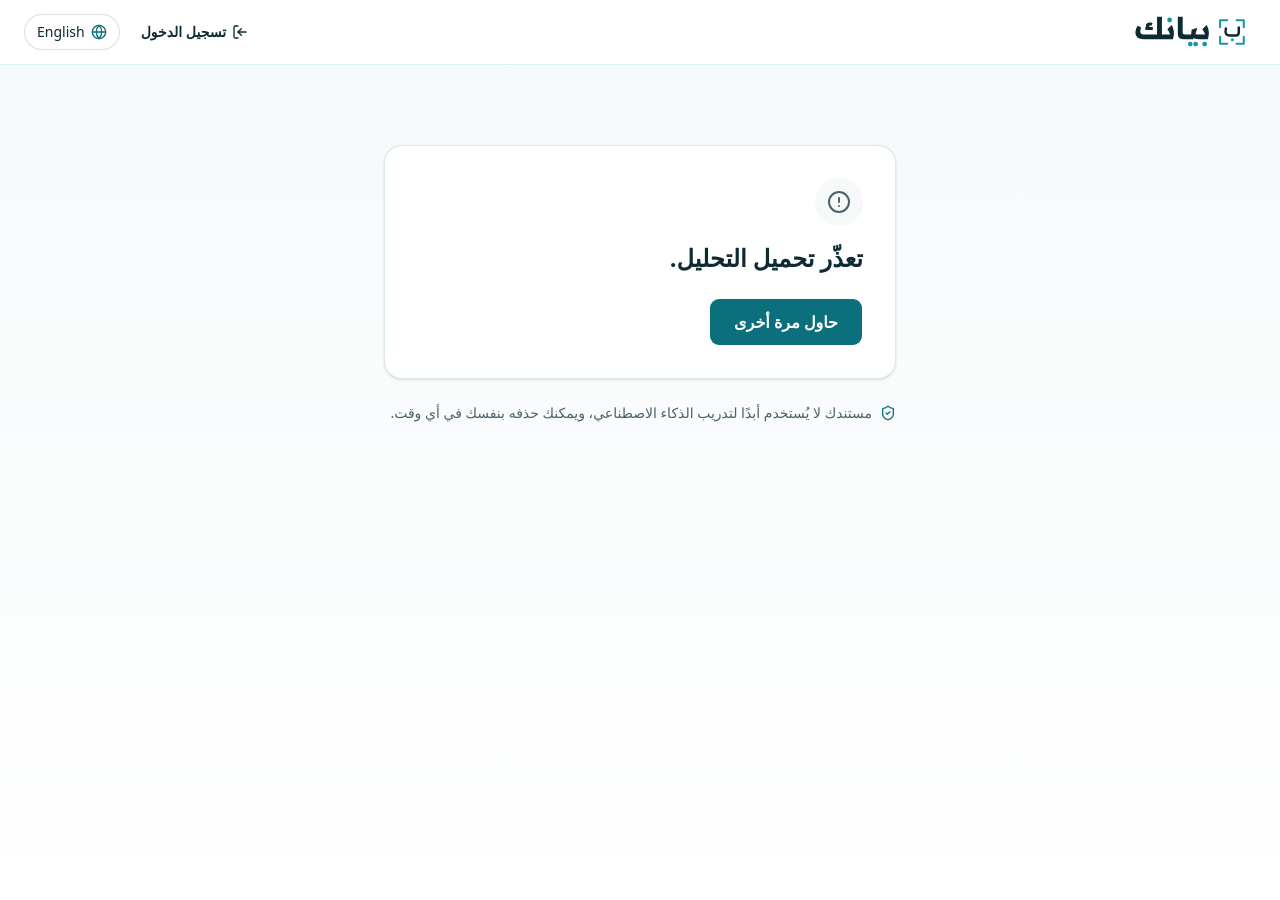
Test case: can load the result again after a server error
Click the button "حاول مرة أخرى" at point(786, 322), box [709,298,863,346]
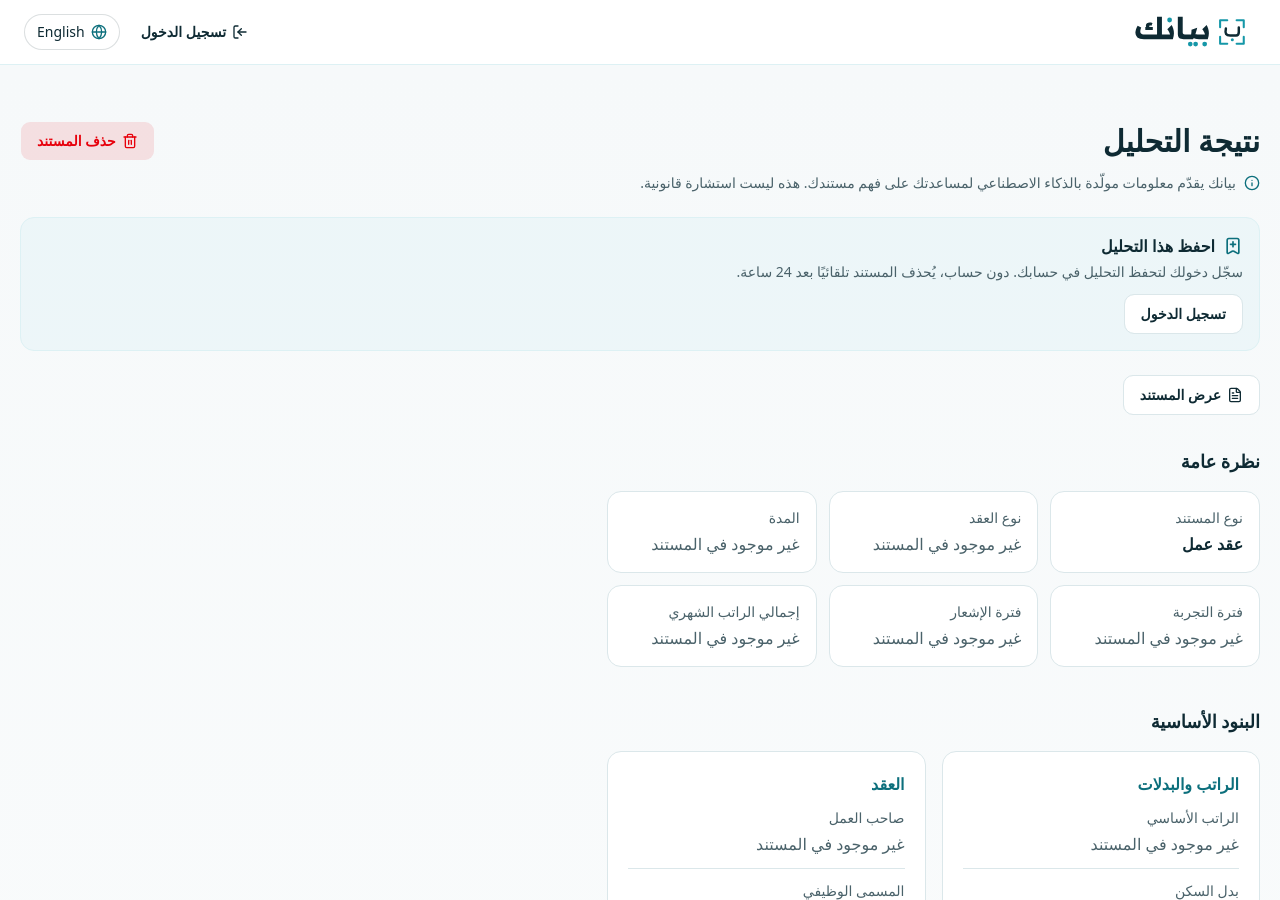
Result: the heading "نتيجة التحليل" is shown at [1103,123,1260,159]
